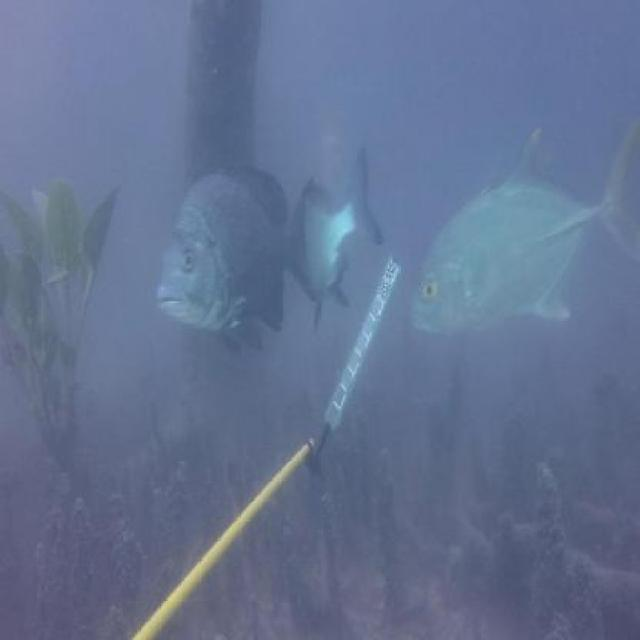Caranx: (404, 118, 640, 347)
acanthopagrus_palmaris: (154, 160, 306, 368), (285, 139, 383, 333)
